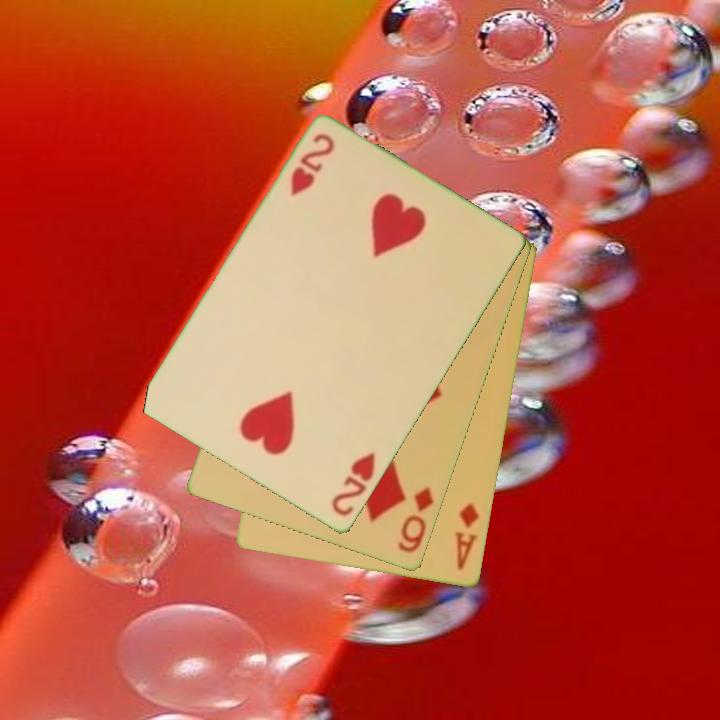2h: (328, 449, 379, 520), (287, 130, 338, 200)
6d: (394, 484, 437, 556)
Ad: (452, 500, 483, 574)
